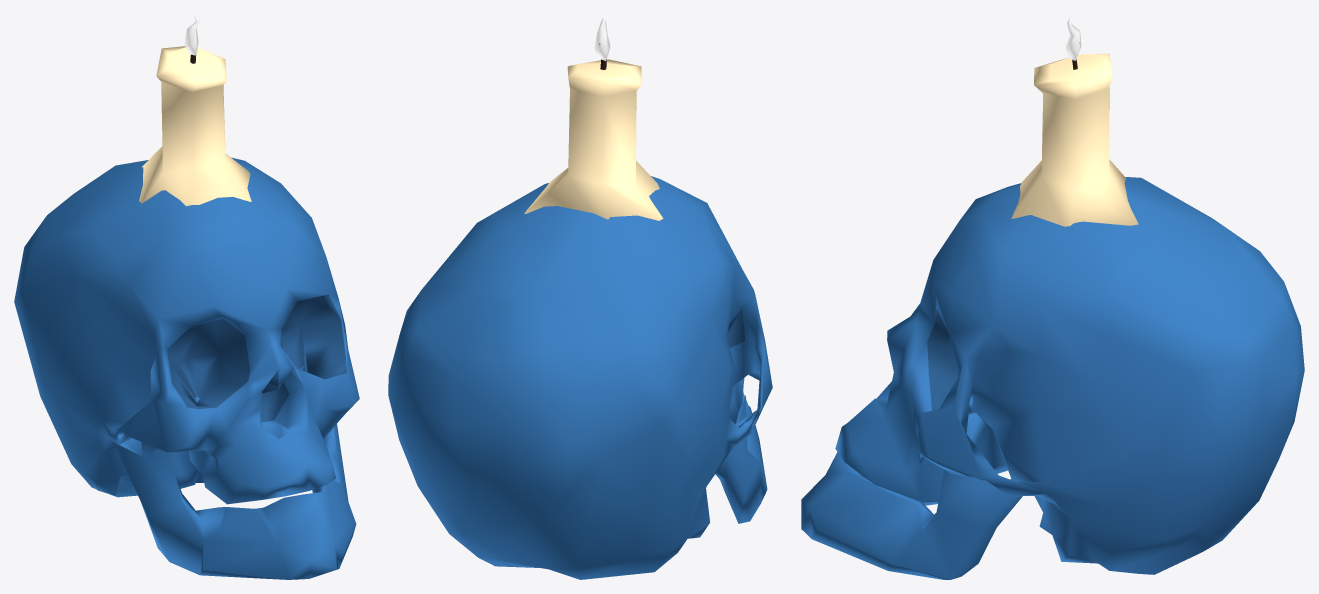
Rendered from CandleSkullShapeB.009.glb.
3 views of the same model, side by side, from view 1: azimuth 30°, elevation 25°; view 2: azimuth 150°, elevation 25°; view 3: azimuth 270°, elevation 25° (orthographic). The views are drawn at different scales.
Parts seen in each view (by area): view 1: CandleSkullShapeB.009; view 2: CandleSkullShapeB.009; view 3: CandleSkullShapeB.009.
Part boxes in pixels (left/top/right/bottom): CandleSkullShapeB.009: left=14, top=14, right=359, bottom=579; CandleSkullShapeB.009: left=388, top=14, right=772, bottom=579; CandleSkullShapeB.009: left=801, top=14, right=1304, bottom=579.
Bounding box in the file's own units: 0.2005 × 0.3649 × 0.3132.
Materials: 2 (2 with a texture image).
